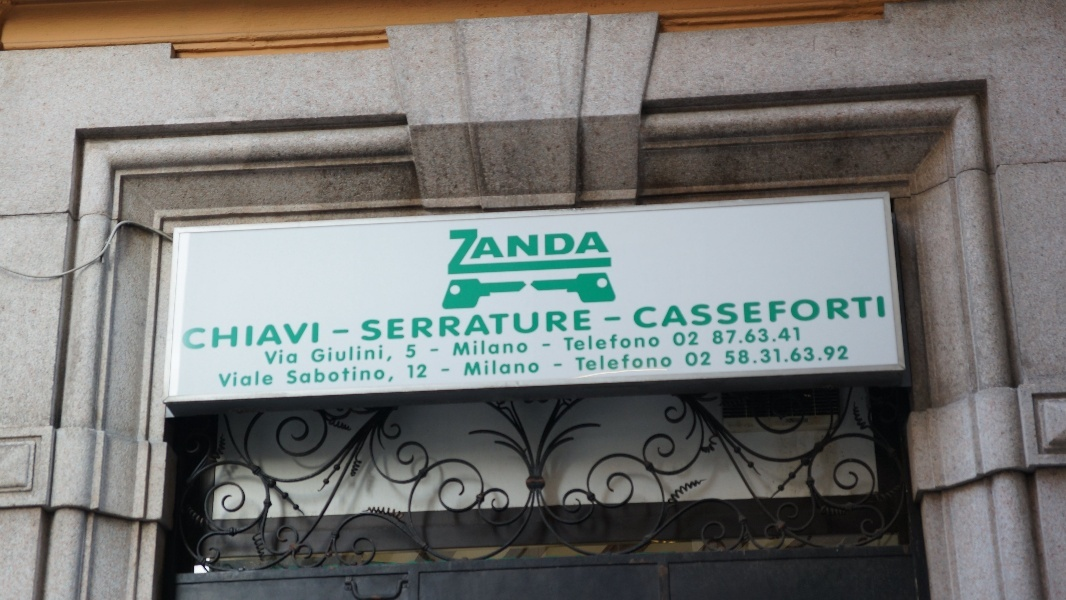text: (449, 224, 464, 279), (465, 224, 480, 279), (481, 224, 496, 279), (497, 224, 512, 279), (513, 224, 528, 279), (529, 224, 544, 279), (545, 224, 560, 279), (561, 224, 576, 279), (577, 224, 592, 279), (593, 224, 608, 279), (577, 309, 593, 342), (641, 295, 656, 329), (657, 295, 672, 329), (673, 295, 688, 329), (689, 295, 704, 329), (705, 295, 720, 329), (721, 295, 736, 329), (737, 295, 752, 329), (753, 295, 768, 329), (769, 295, 784, 329), (785, 295, 800, 329), (801, 295, 816, 329), (817, 295, 832, 329), (833, 295, 848, 329), (849, 295, 864, 329), (865, 295, 880, 329), (305, 320, 321, 351), (369, 309, 384, 342), (385, 309, 400, 342), (401, 309, 416, 342), (417, 309, 432, 342), (433, 309, 448, 342), (449, 309, 464, 342), (465, 309, 480, 342), (481, 309, 496, 342), (497, 309, 512, 342), (513, 309, 528, 342), (529, 309, 544, 342), (545, 309, 560, 342), (561, 309, 576, 342), (193, 320, 208, 351), (209, 320, 224, 351), (225, 320, 240, 351), (241, 320, 256, 351), (257, 320, 272, 351), (273, 320, 288, 351), (289, 320, 304, 351), (609, 224, 616, 279), (737, 345, 752, 366), (753, 345, 768, 366), (769, 345, 784, 366), (785, 345, 800, 366), (801, 345, 816, 366), (817, 345, 832, 366), (833, 345, 848, 366), (182, 320, 192, 351), (577, 353, 592, 373), (593, 353, 608, 373), (609, 353, 624, 373), (625, 353, 640, 373), (641, 353, 656, 373), (657, 353, 672, 373), (721, 326, 736, 346), (737, 326, 752, 346), (753, 326, 768, 346), (769, 326, 784, 346), (785, 326, 800, 346), (321, 345, 336, 364), (337, 345, 352, 364), (353, 345, 368, 364), (369, 345, 384, 364), (289, 366, 304, 385), (305, 366, 320, 385), (321, 366, 336, 385), (337, 366, 352, 385), (353, 366, 368, 385), (369, 366, 384, 385), (273, 348, 288, 366), (577, 334, 592, 352), (593, 334, 608, 352), (609, 334, 624, 352), (625, 334, 640, 352), (641, 334, 656, 352), (225, 371, 240, 388), (241, 371, 256, 388), (257, 371, 272, 388), (465, 340, 480, 357), (481, 340, 496, 357), (497, 340, 512, 357), (513, 340, 528, 357), (481, 361, 496, 377), (497, 361, 512, 377), (513, 361, 528, 377), (673, 331, 688, 347), (689, 351, 704, 367), (633, 295, 640, 329), (563, 334, 576, 352), (361, 309, 368, 342), (466, 361, 480, 377), (726, 345, 736, 366), (385, 366, 396, 385), (881, 295, 887, 329), (417, 364, 429, 380), (689, 331, 701, 347), (529, 361, 540, 377), (311, 345, 320, 364), (445, 224, 448, 279), (263, 348, 272, 366), (289, 348, 298, 366), (385, 345, 393, 364), (705, 351, 714, 367), (713, 326, 720, 346), (456, 340, 464, 357), (407, 344, 416, 359), (408, 364, 416, 380), (217, 371, 224, 388), (337, 328, 350, 336), (657, 334, 661, 352), (609, 318, 623, 323), (440, 368, 448, 374), (685, 351, 688, 367), (849, 345, 851, 366), (331, 328, 336, 336), (433, 349, 439, 353), (545, 344, 551, 348), (554, 364, 560, 368), (604, 318, 608, 323), (575, 353, 576, 373), (673, 353, 674, 373), (801, 326, 802, 346), (273, 371, 274, 388), (430, 349, 432, 353), (542, 344, 544, 348), (561, 364, 563, 368), (449, 368, 450, 374)
